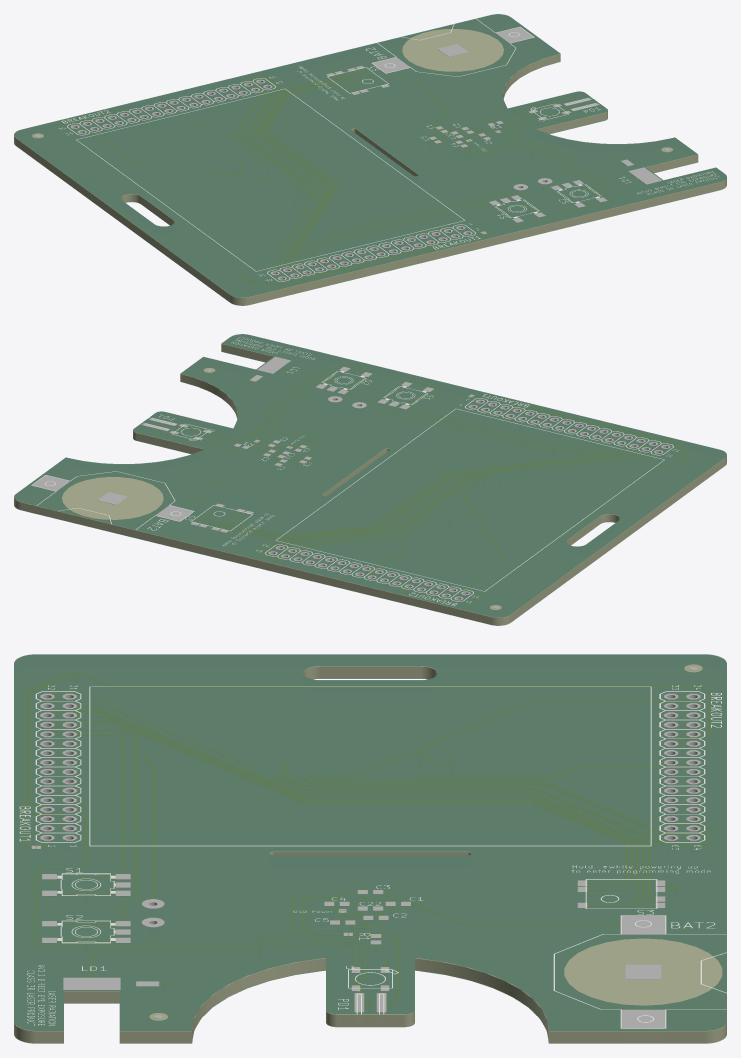
File: austin-hackers-association-badge.glb
3 views of the same model, one above another, from view 1: azimuth 30°, elevation 25°; view 2: azimuth 150°, elevation 25°; view 3: azimuth 270°, elevation 25° (orthographic). The views are drawn at different scales.
Parts seen in each view (by area): view 1: =>[0:1:1:7], =>[0:1:1:9], =>[0:1:1:2], =>[0:1:1:5]; view 2: =>[0:1:1:7], =>[0:1:1:9], =>[0:1:1:2], =>[0:1:1:5]; view 3: =>[0:1:1:7], =>[0:1:1:9], =>[0:1:1:2], =>[0:1:1:5].
Boxes of the visible parts, left/top/right/bottom form: =>[0:1:1:7]: left=14, top=14, right=726, bottom=305; =>[0:1:1:9]: left=14, top=15, right=726, bottom=305; =>[0:1:1:2]: left=35, top=27, right=669, bottom=284; =>[0:1:1:5]: left=58, top=18, right=718, bottom=281; =>[0:1:1:7]: left=14, top=334, right=726, bottom=625; =>[0:1:1:9]: left=14, top=335, right=726, bottom=625; =>[0:1:1:2]: left=32, top=357, right=689, bottom=608; =>[0:1:1:5]: left=31, top=337, right=678, bottom=605; =>[0:1:1:7]: left=14, top=654, right=726, bottom=1043; =>[0:1:1:9]: left=14, top=655, right=726, bottom=1043; =>[0:1:1:2]: left=24, top=666, right=710, bottom=1027; =>[0:1:1:5]: left=19, top=685, right=726, bottom=1028.
Size of the model in its own units: 0.1016 by 0.00166 by 0.0813.
Materials: 4 (4 with a texture image).
